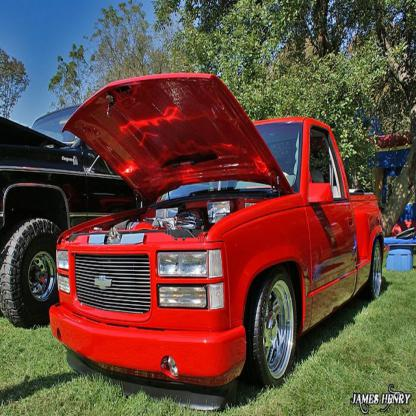Car: (48, 73, 384, 412), (0, 103, 141, 331)
Truck: (49, 74, 384, 411)
